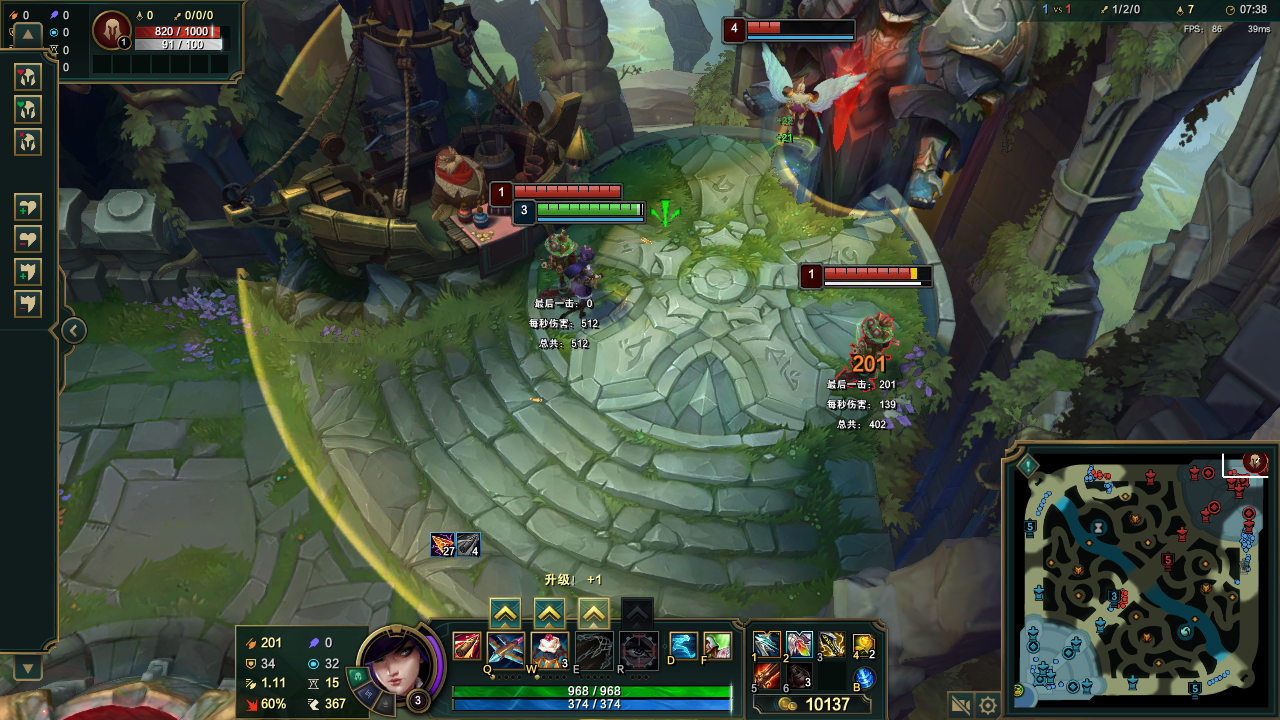DFYX: (822, 266, 936, 281), (743, 18, 855, 33), (510, 186, 622, 197)
